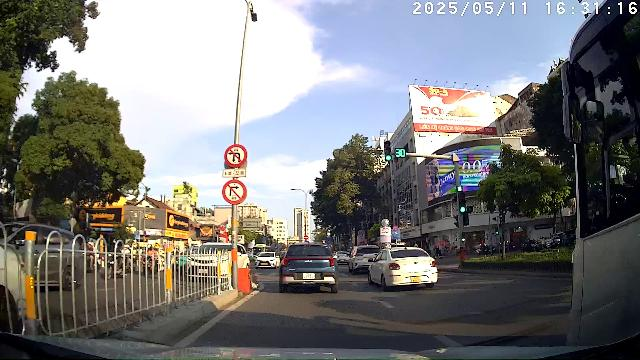103b-cam-oto-re-phai: (222, 180, 248, 204)
